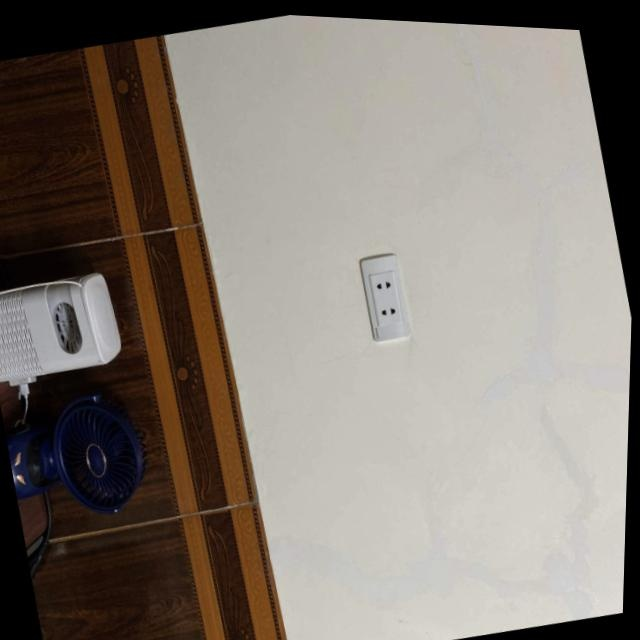outlet: (355, 250, 414, 345)
